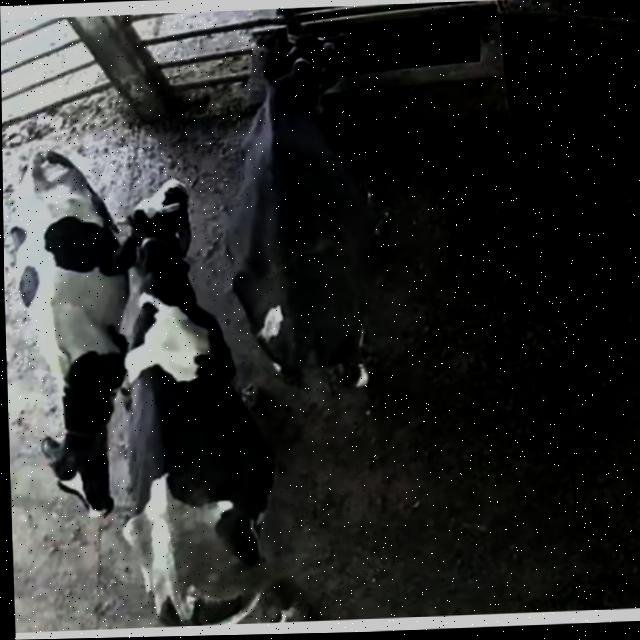drink: (208, 14, 383, 166)
